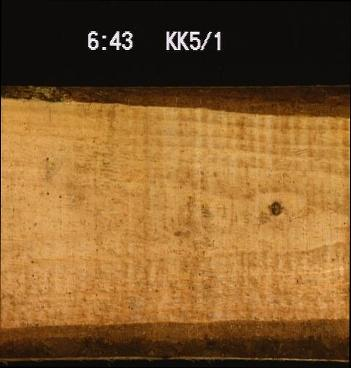dry_knot: (269, 198, 281, 215)
wave: (0, 315, 349, 360), (0, 84, 350, 117)
